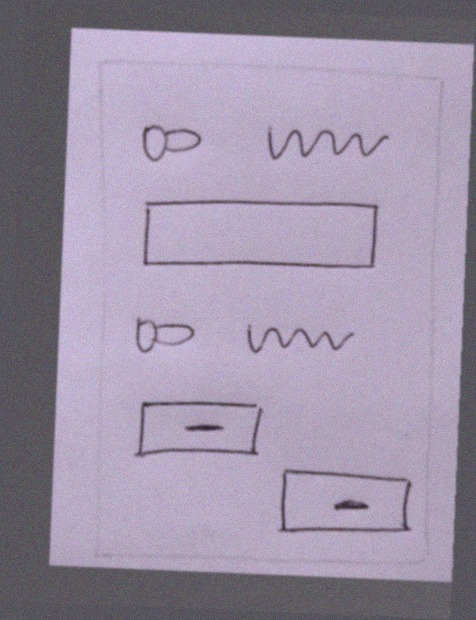button: (276, 465, 420, 543), (129, 393, 270, 466)
switch: (131, 115, 211, 175), (129, 312, 199, 361)
text: (258, 123, 398, 171), (234, 314, 357, 364)
text_input: (132, 189, 385, 281)
